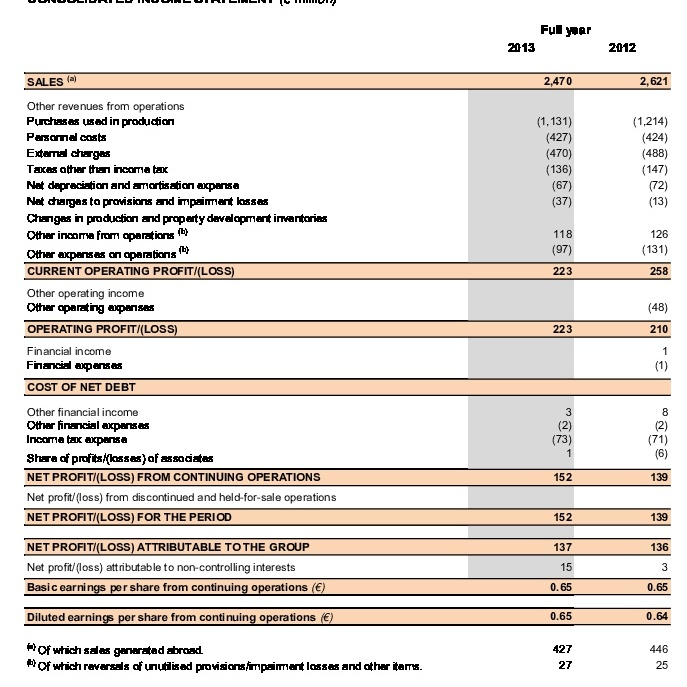table: (0, 0, 687, 687)
